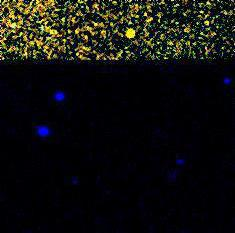star: (115, 19, 145, 49)
